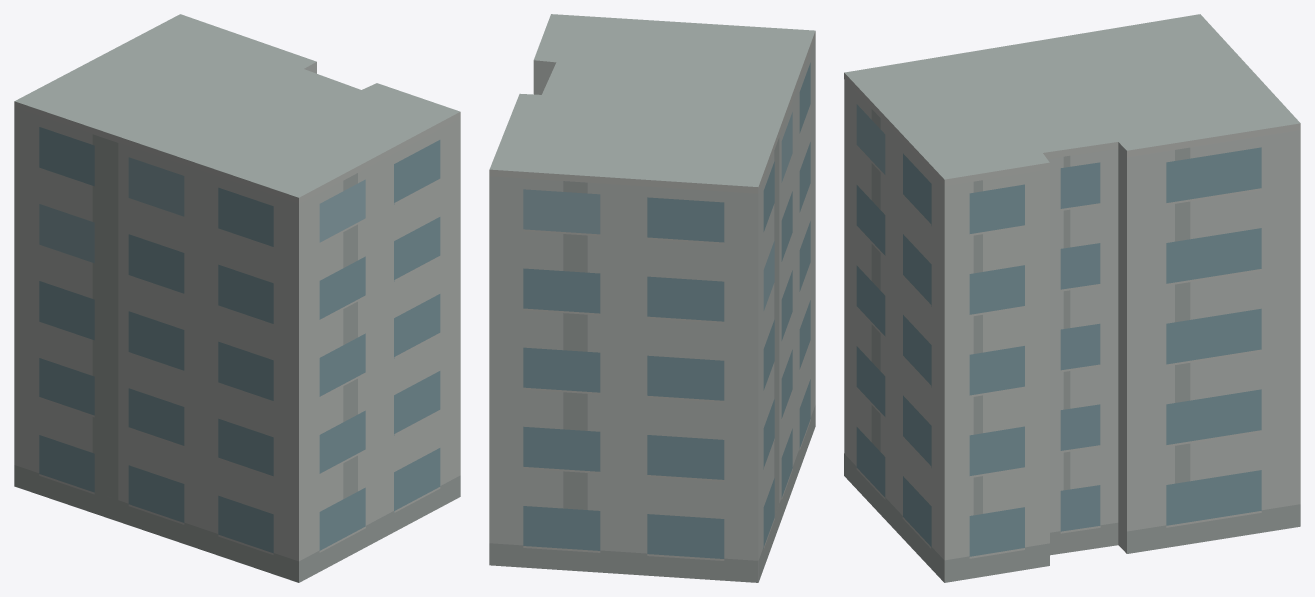
File: survey-upis-32710920.glb
3 views of the same model, side by side, from view 1: azimuth 30°, elevation 25°; view 2: azimuth 150°, elevation 25°; view 3: azimuth 270°, elevation 25° (orthographic). The views are drawn at different scales.
Visible parts, largest first — view 1: survey-upis-32710920.tmp; view 2: survey-upis-32710920.tmp; view 3: survey-upis-32710920.tmp.
Boxes of the visible parts, x1,y1,x2,y2 form: survey-upis-32710920.tmp: (14,14,460,582); survey-upis-32710920.tmp: (489,14,815,582); survey-upis-32710920.tmp: (844,14,1300,582).
Size of the model in its own units: 12.78 by 14.5 by 14.88.
